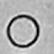no answer: (6, 12, 40, 47)
